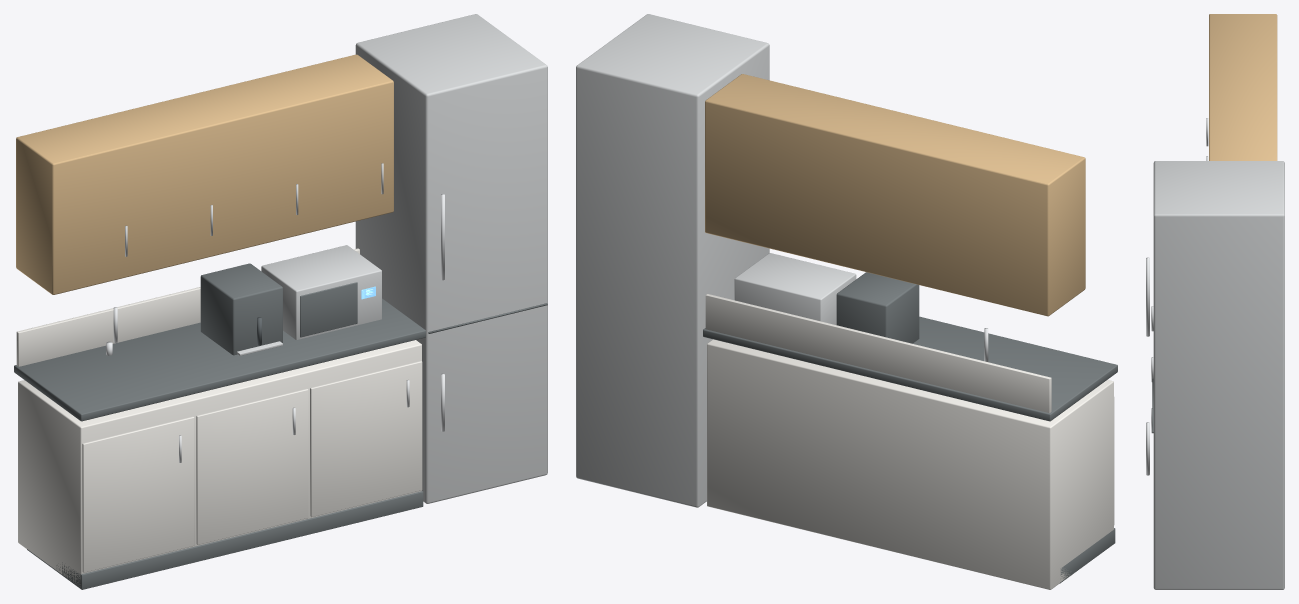
The model's file is kitchen.run.glb.
The picture shows the model from 3 angles, left to right: view 1: azimuth 30°, elevation 25°; view 2: azimuth 150°, elevation 25°; view 3: azimuth 270°, elevation 25°; orthographic projection. The views are drawn at different scales.
Visible parts, largest first — view 1: kitchen.run; view 2: kitchen.run; view 3: kitchen.run.
Part boxes in pixels (bbox=[...]): kitchen.run: bbox=[14, 14, 547, 589]; kitchen.run: bbox=[576, 14, 1117, 589]; kitchen.run: bbox=[1146, 14, 1284, 589].
Size of the model in its own units: 2.6 by 2.19 by 0.73.
Materials: 7 (1 with a texture image).
